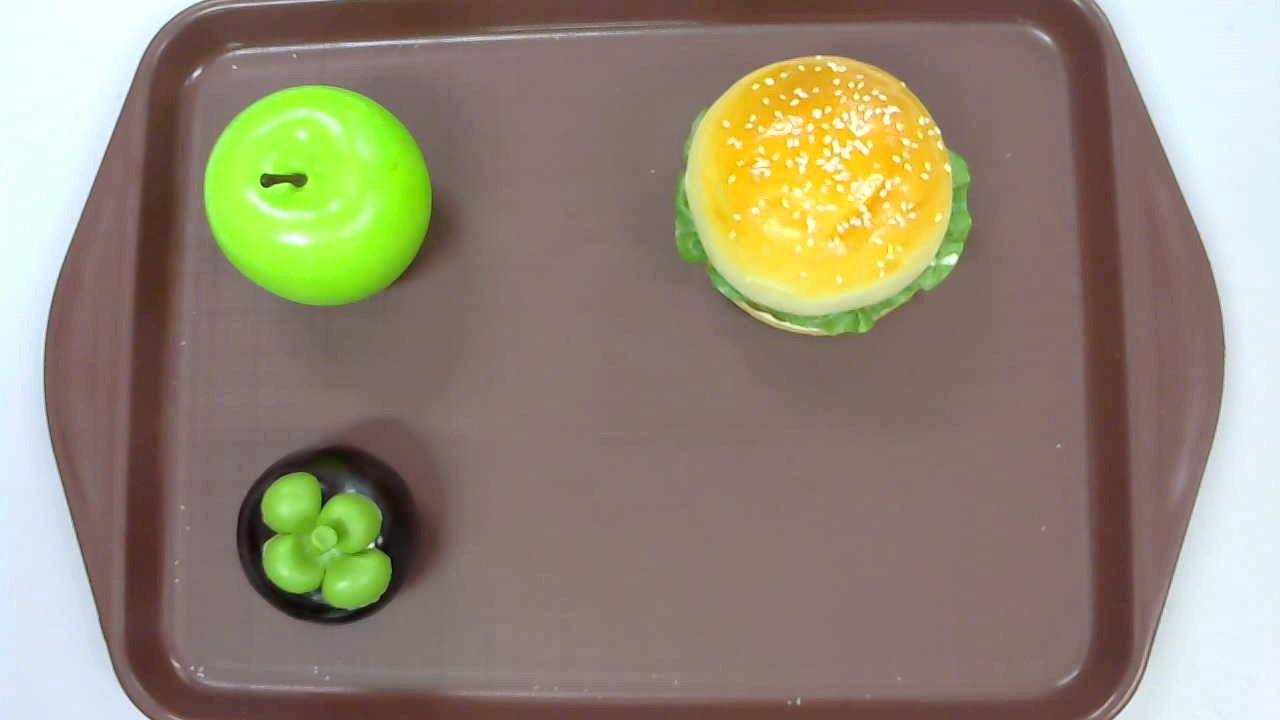green apple: (203, 84, 432, 308)
hamburger: (674, 55, 973, 339)
mangosteen: (236, 442, 420, 627)
